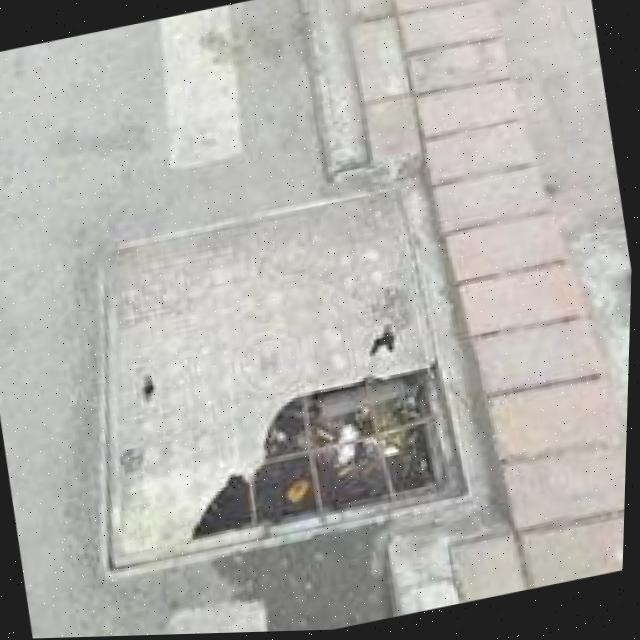manhole: (33, 153, 503, 594)
